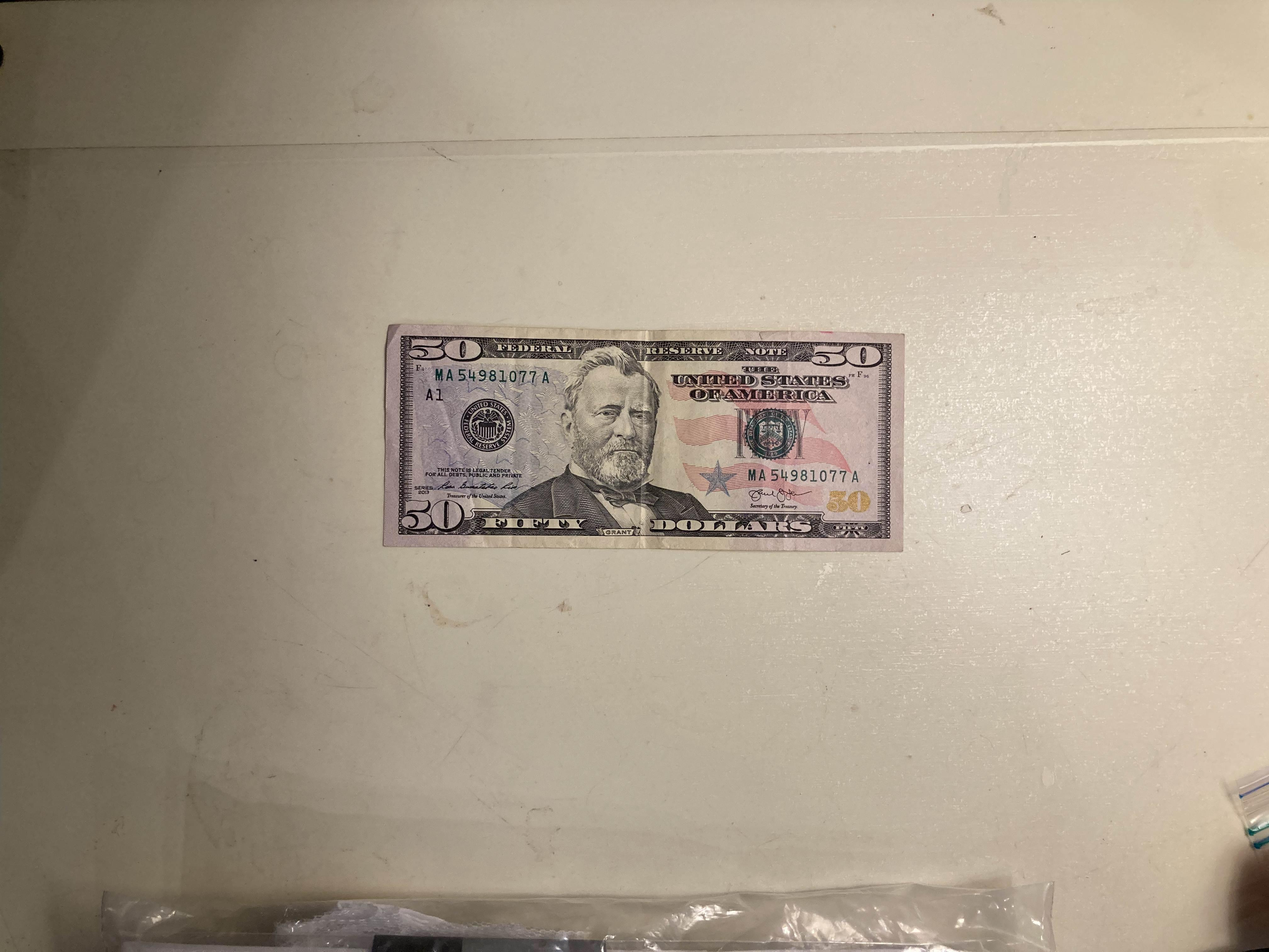fifty-front: (384, 324, 906, 552)
